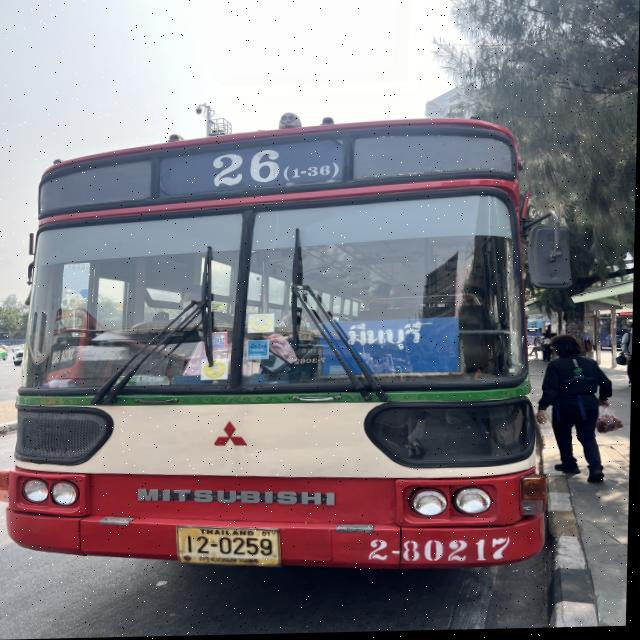BMTA-bus: (3, 118, 553, 575)
Bus Line Number: (157, 144, 346, 201)
Bus Side Number: (360, 533, 517, 569)
Destination Sign: (321, 318, 463, 375)
